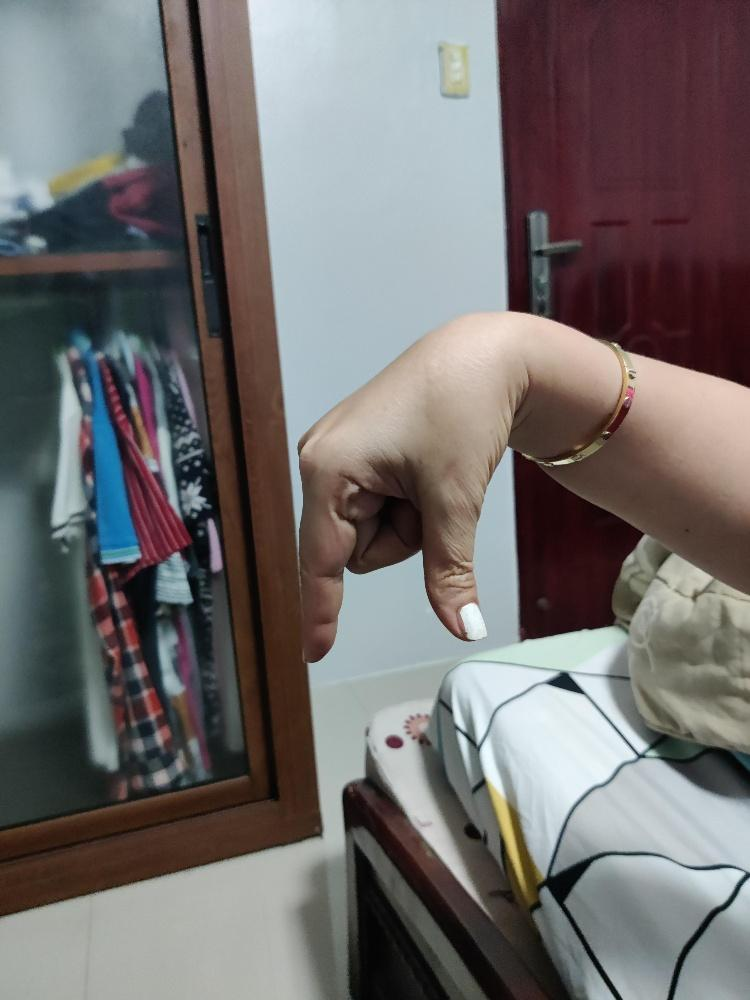q: (294, 308, 529, 665)
